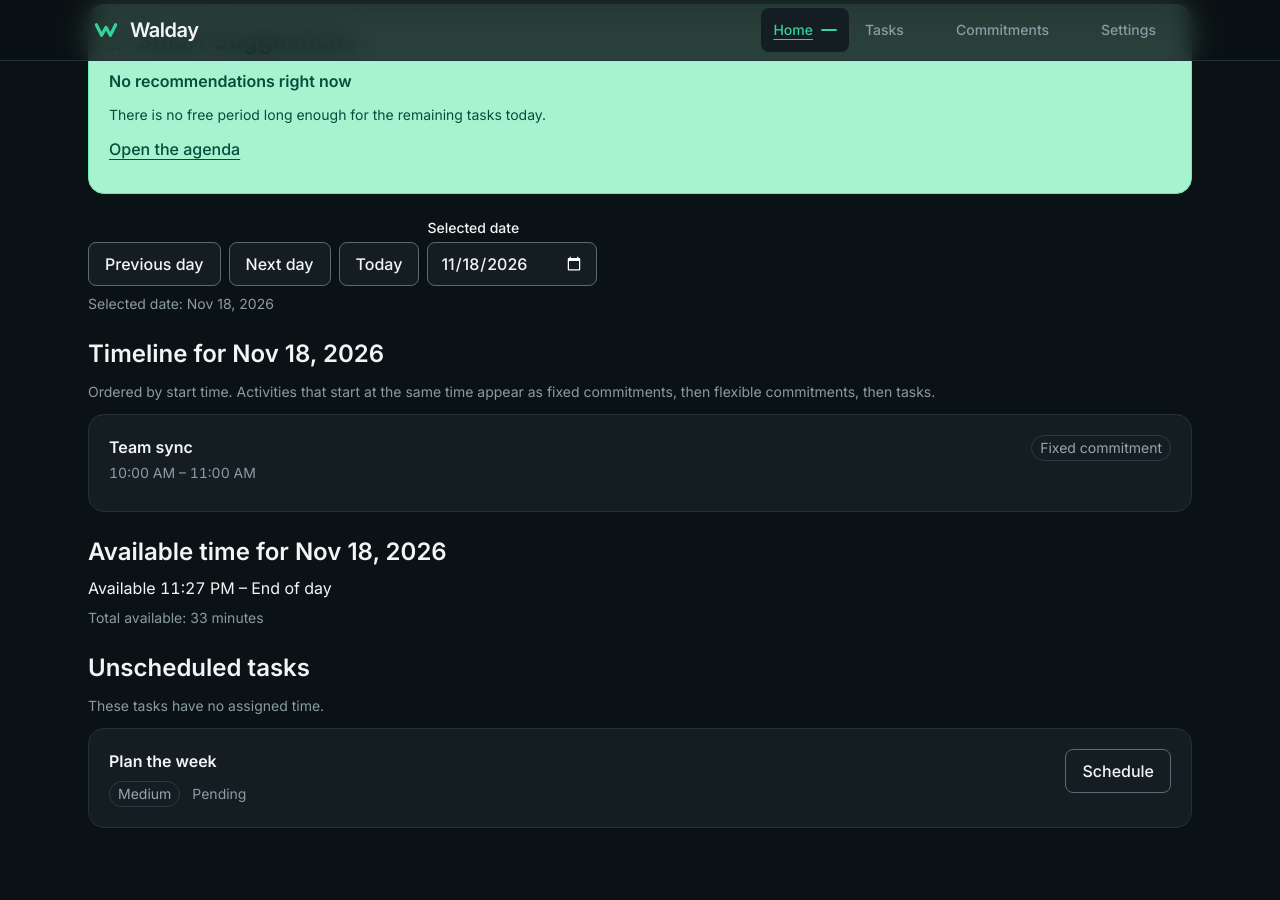
Test: scheduling conflict acknowledgment › blocks confirmation until every conflict is acknowledged and names its range
This screenshot has width=1280, height=900.
(page scrolled)
Click the button "Schedule": (1118, 771) [1066, 749, 1171, 793]
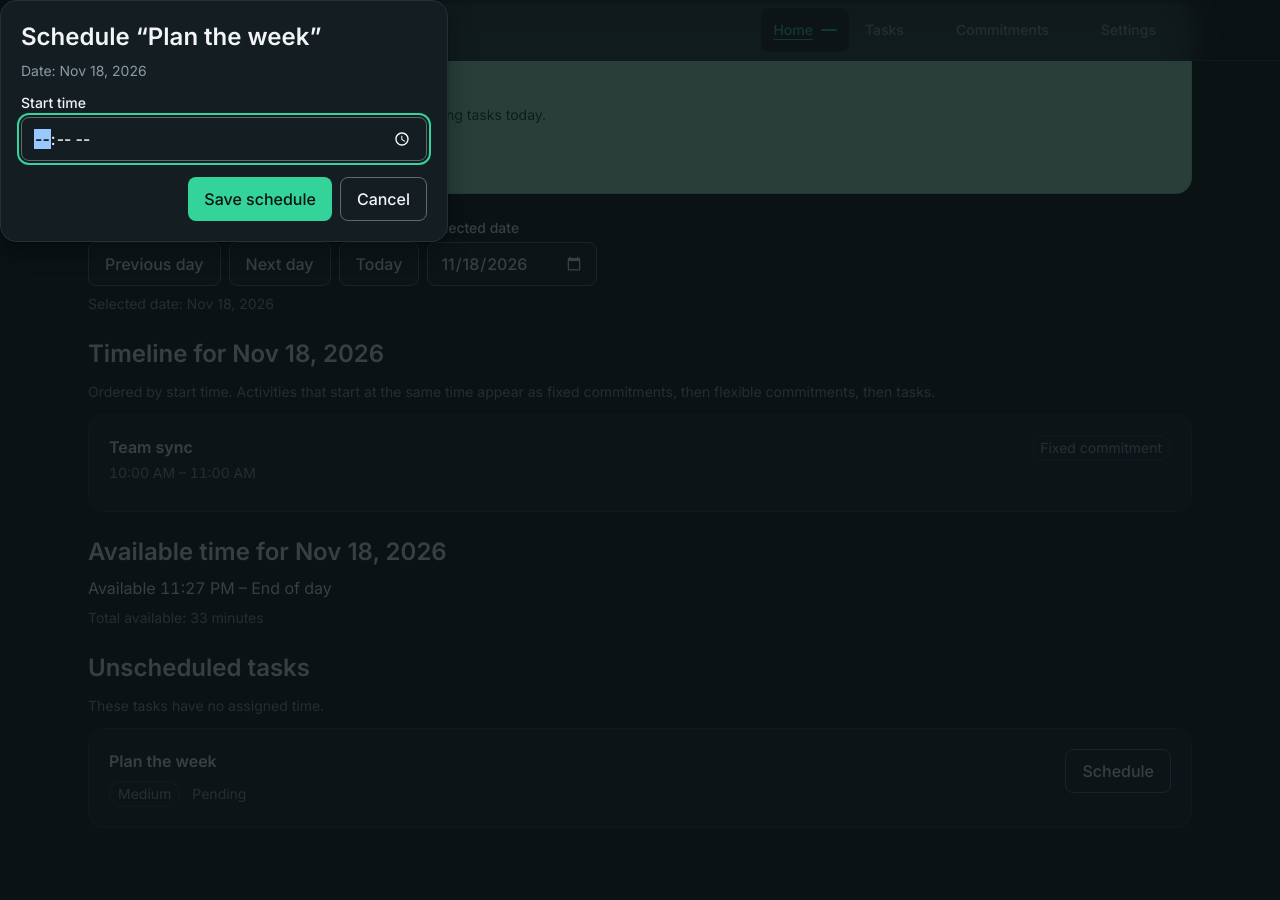
In the time field labelled "Start time": (224, 139) [21, 117, 427, 161], type "10:30"
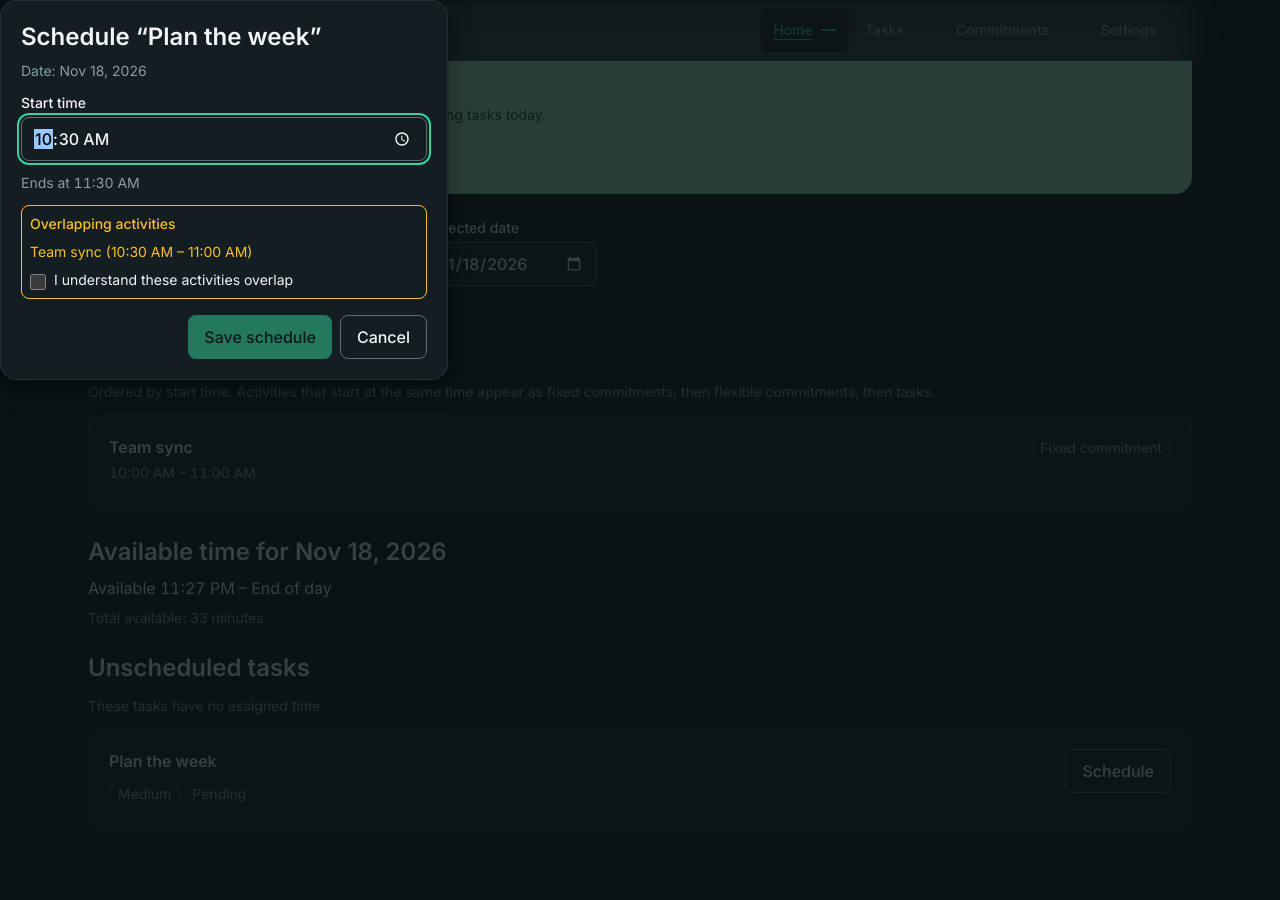
Result: the list item "Team sync (10:30 AM – 11:00 AM)" is shown at [30, 243, 252, 260]
Result: the button "Save schedule" is disabled at [188, 315, 332, 359]
Click the checkbox labelled "I understand these activities overlap": (38, 282) [30, 274, 46, 290]
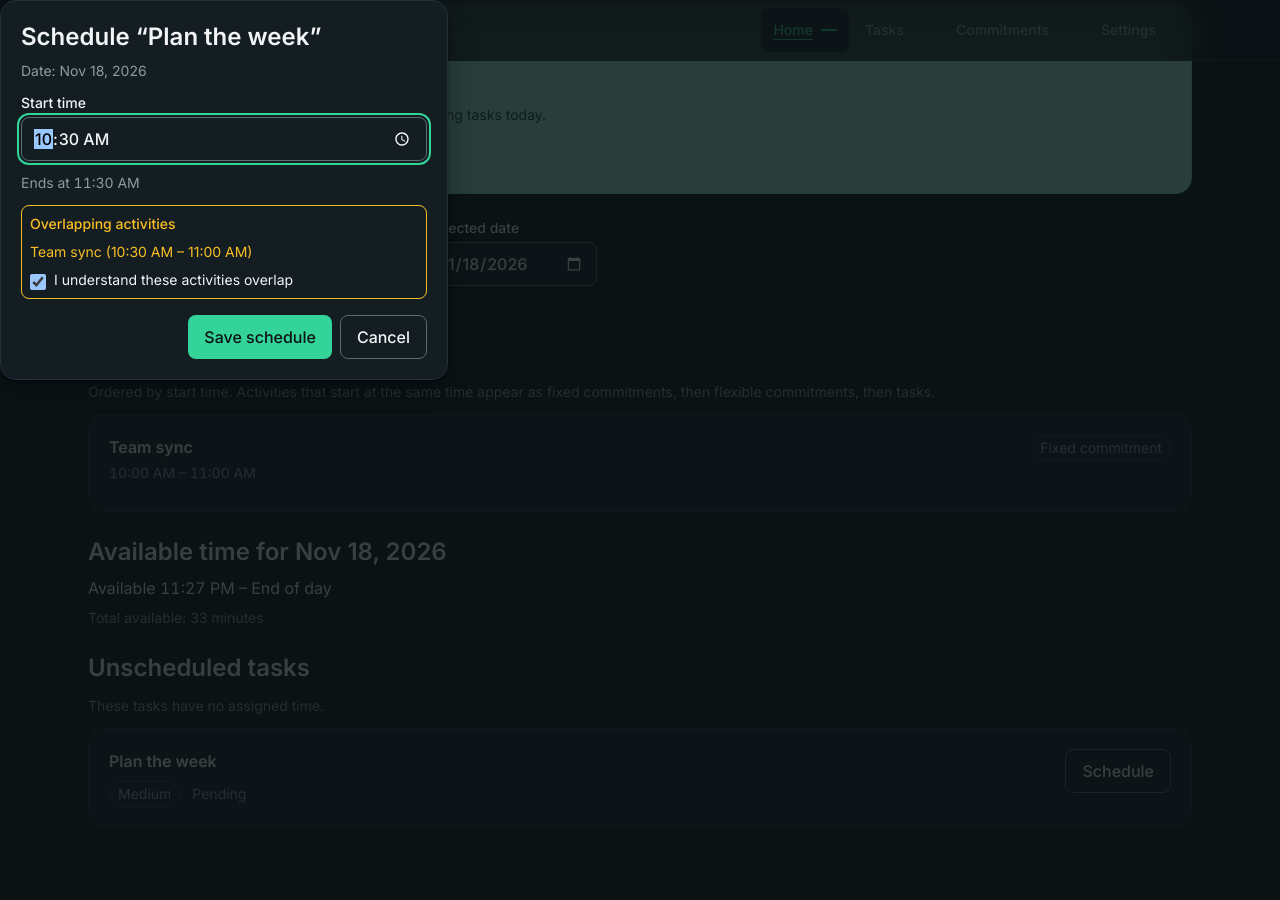
Result: the button "Save schedule" is enabled
Click the button "Save schedule": (260, 337) [188, 315, 332, 359]
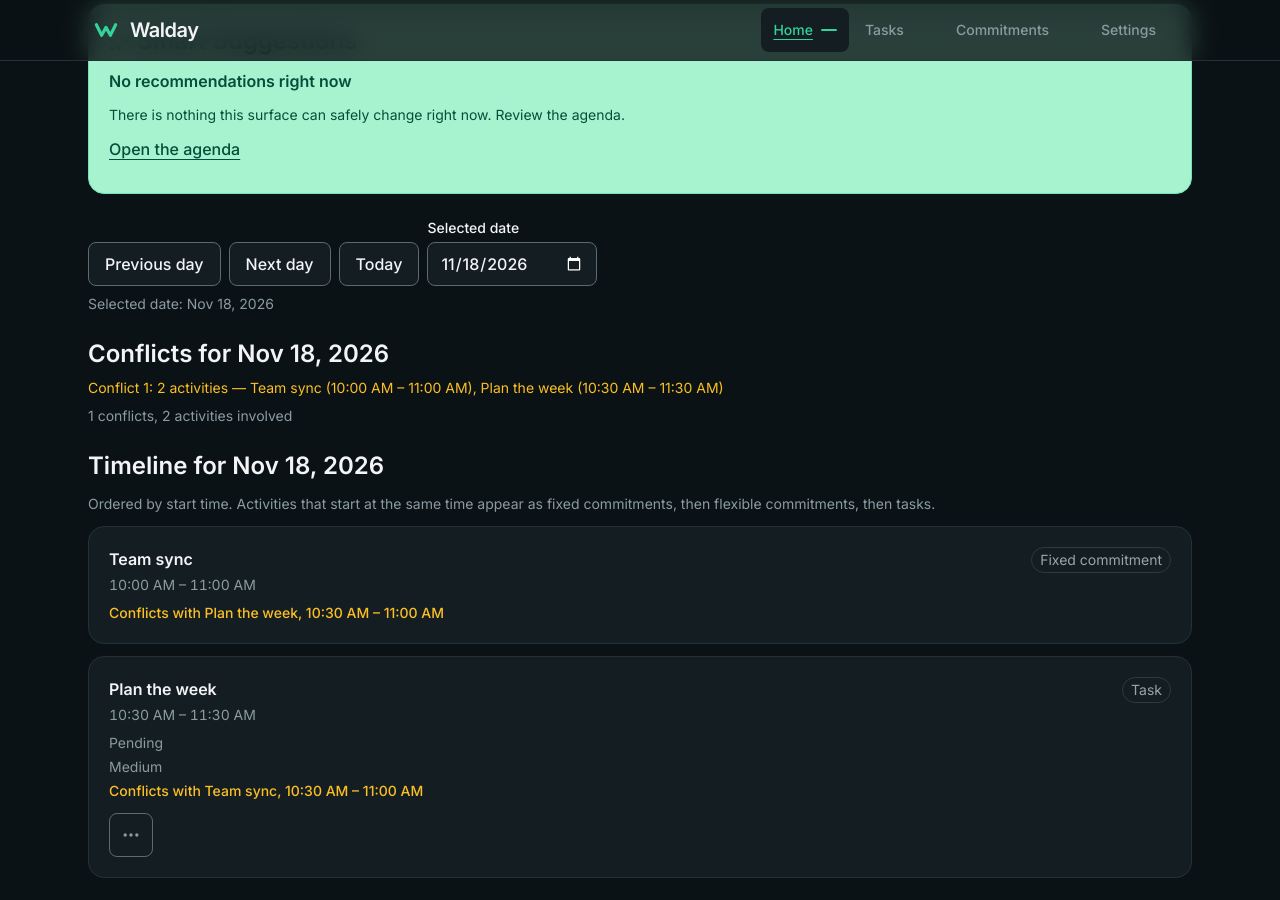
Result: the text "Conflicts with Team sync, 10:30 AM – 11:00 AM" is shown at [109, 782, 423, 799]
